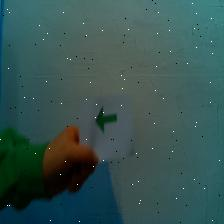left: (94, 105, 117, 134)
